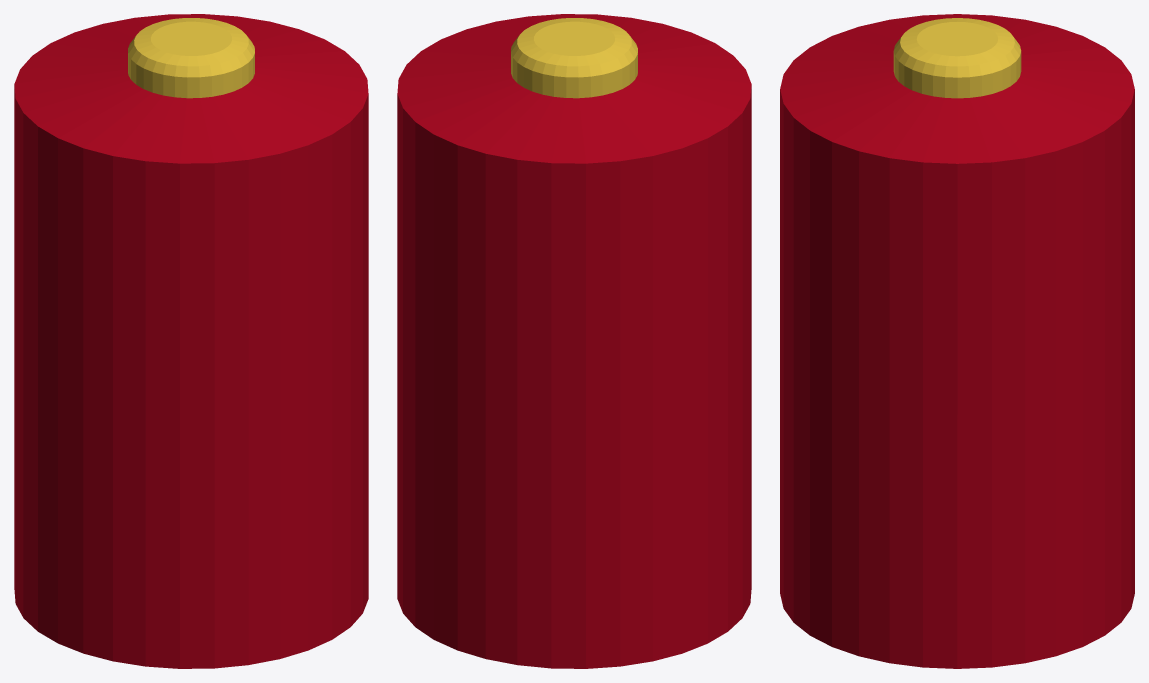
The model's file is pilha.fbx.
3 views of the same model, side by side, from view 1: azimuth 30°, elevation 25°; view 2: azimuth 150°, elevation 25°; view 3: azimuth 270°, elevation 25° (orthographic).
Visible parts, largest first — view 1: Cylinder; view 2: Cylinder; view 3: Cylinder.
Part boxes in pixels (x1=…): Cylinder: x1=14, y1=14, x2=368, y2=668; Cylinder: x1=397, y1=14, x2=751, y2=668; Cylinder: x1=780, y1=14, x2=1134, y2=668.
Size of the model in its own units: 2 by 3.45 by 2.
